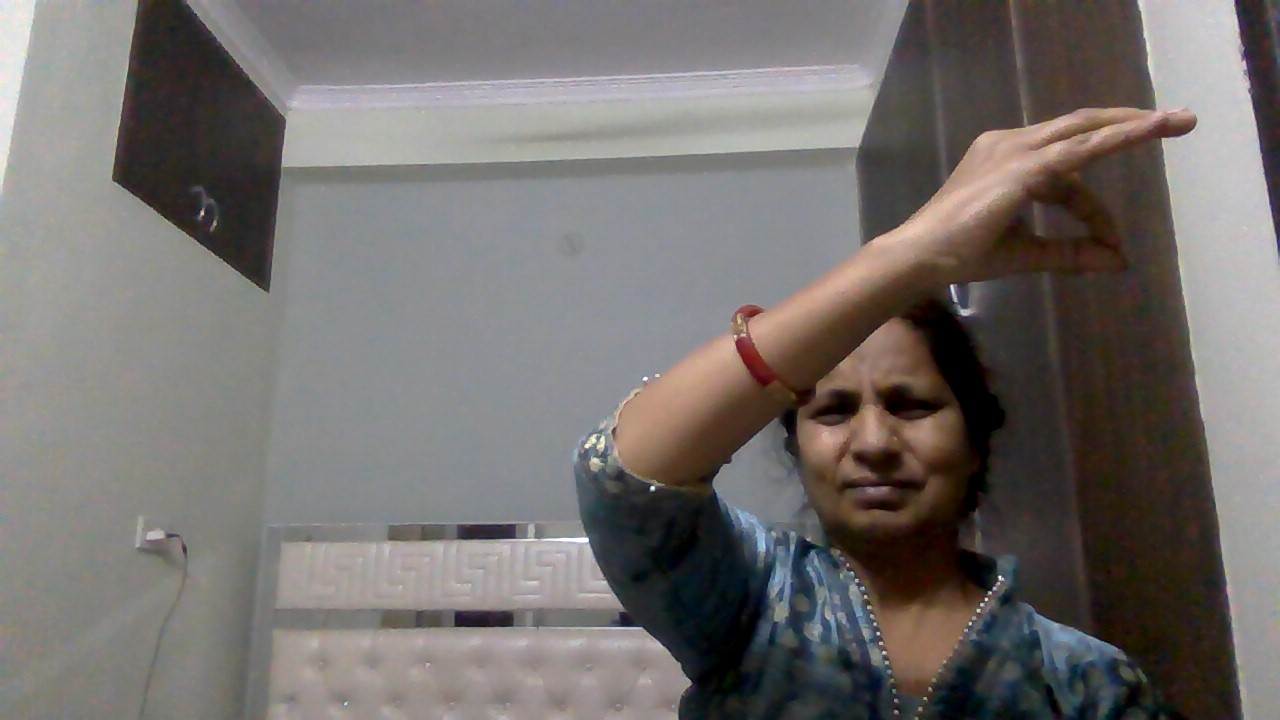Copy: (885, 93, 1215, 306)
